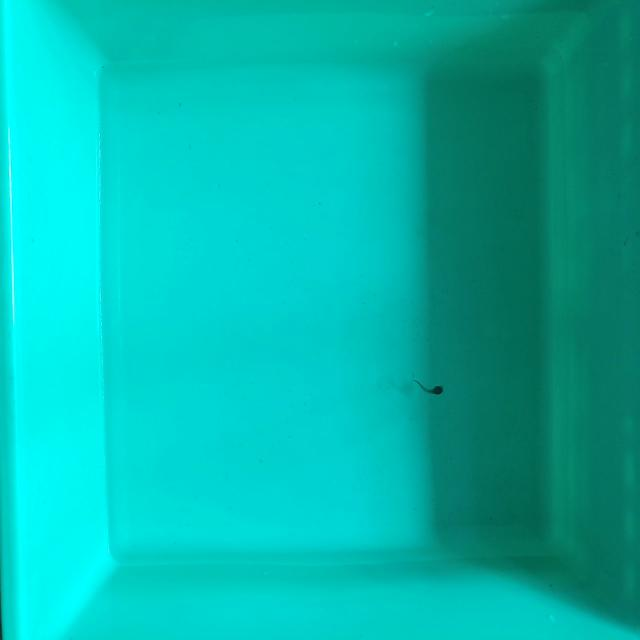lele: (417, 381, 446, 396)
